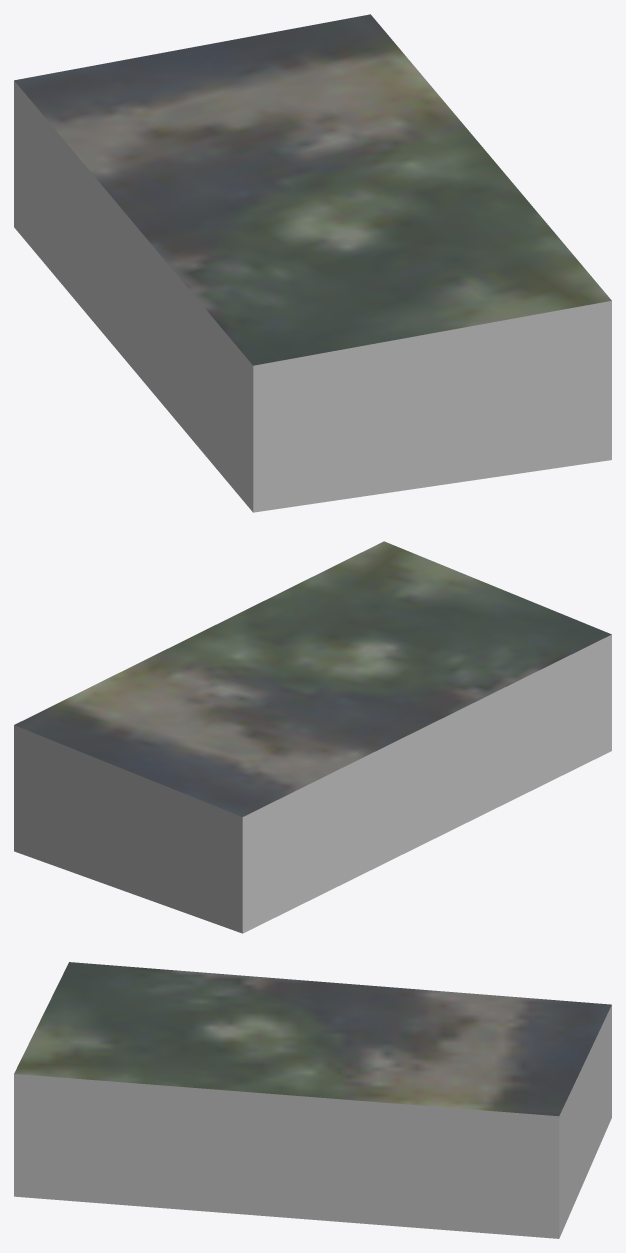
The model's file is DEBW_0010007Txhn.gltf.
The picture shows the model from 3 angles, top to bottom: view 1: azimuth 30°, elevation 25°; view 2: azimuth 150°, elevation 25°; view 3: azimuth 270°, elevation 25°; orthographic projection. The views are drawn at different scales.
Parts seen in each view (by area): view 1: Z_UP; view 2: Z_UP; view 3: Z_UP.
Part boxes in pixels (x1,y1,x2,y2): Z_UP: [14, 14, 611, 512]; Z_UP: [14, 541, 611, 933]; Z_UP: [14, 962, 611, 1238].
Size of the model in its own units: 8.01 by 2.8 by 12.36.
2 materials, 1 textured.
